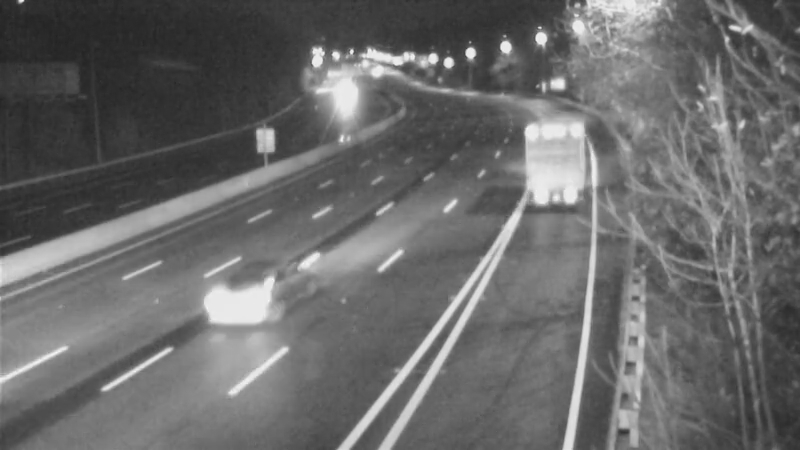vehicle: (216, 254, 296, 334), (521, 117, 571, 167), (314, 77, 364, 127)
